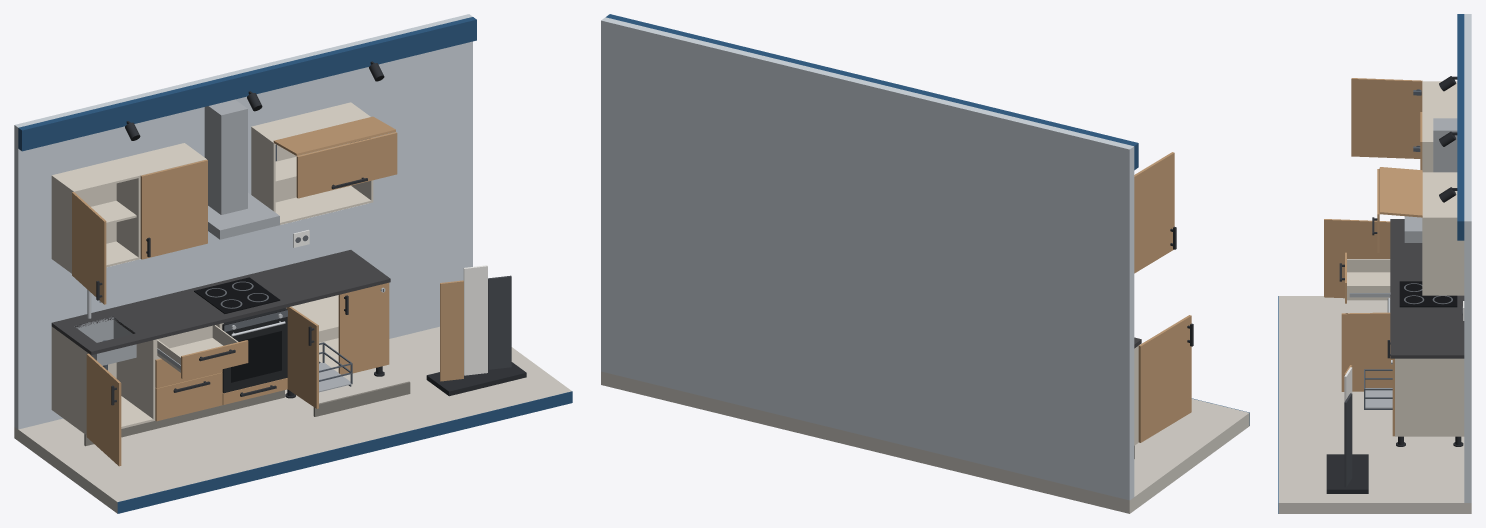
Rendered from showroom.glb.
3 views of the same model, side by side, from view 1: azimuth 30°, elevation 25°; view 2: azimuth 150°, elevation 25°; view 3: azimuth 270°, elevation 25° (orthographic). The views are drawn at different scales.
Parts seen in each view (by area): view 1: 뒤 벽, 단, 머리판, 상판 오른쪽, 상부장 2 문, 단 앞 띠, 후드 굴뚝, 리프트 아랫문 판, 수납장 오른문, 싱크장 문 판, 싱크장 옆판 왼쪽, 상부장 1 문 판 (+31 smaller); view 2: 뒤 벽, 단, 싱크장 문 판, 상부장 1 문 판, 머리판; view 3: 단, 상부장 1 문 판, 수납장 옆판 오른쪽, 상판 오른쪽, 뒤 벽, 수납장 왼문 판, 싱크장 문 판, 리프트장 옆판 오른쪽, 리프트 윗문 판, 머리판, 견본대, 리프트장 윗판 (+15 smaller).
Boxes of the visible parts, x1,y1,x2,y2 form: 뒤 벽: (14, 14, 472, 429); 단: (14, 326, 571, 513); 머리판: (18, 17, 476, 151); 상판 오른쪽: (105, 250, 390, 341); 상부장 2 문: (140, 159, 207, 259); 단 앞 띠: (117, 391, 572, 513); 후드 굴뚝: (204, 99, 247, 214); 리프트 아랫문 판: (296, 132, 397, 198); 수납장 오른문: (338, 282, 389, 374); 싱크장 문 판: (86, 353, 121, 466); 싱크장 옆판 왼쪽: (51, 326, 88, 434); 상부장 1 문 판: (72, 192, 106, 304); 뒤 벽: (601, 17, 1134, 500); 단: (601, 371, 1249, 513); 싱크장 문 판: (1138, 315, 1191, 442); 상부장 1 문 판: (1134, 152, 1174, 273); 머리판: (606, 14, 1138, 170); 단: (1279, 296, 1471, 513); 상부장 1 문 판: (1351, 78, 1422, 158); 수납장 옆판 오른쪽: (1395, 358, 1464, 436); 상판 오른쪽: (1390, 243, 1464, 358); 뒤 벽: (1464, 14, 1471, 502); 수납장 왼문 판: (1341, 312, 1392, 391); 싱크장 문 판: (1324, 219, 1390, 298); 리프트장 옆판 오른쪽: (1422, 216, 1464, 295); 리프트 윗문 판: (1379, 167, 1422, 217); 머리판: (1457, 14, 1464, 240); 견본대: (1326, 454, 1368, 493); 리프트장 윗판: (1422, 173, 1457, 216).
Size of the model in its own units: 4.1 by 2.7 by 1.61.
